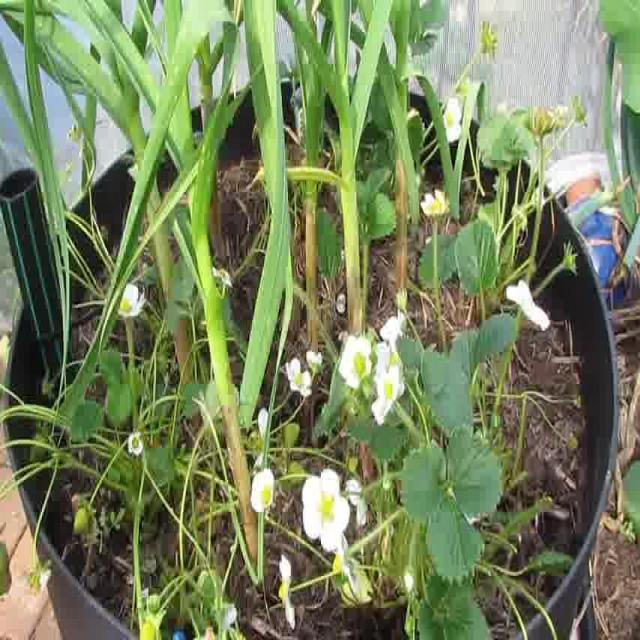Fruta sana: (0, 542, 12, 594), (30, 432, 50, 462), (73, 506, 92, 536), (282, 422, 301, 452), (140, 614, 162, 639), (286, 462, 308, 484)
